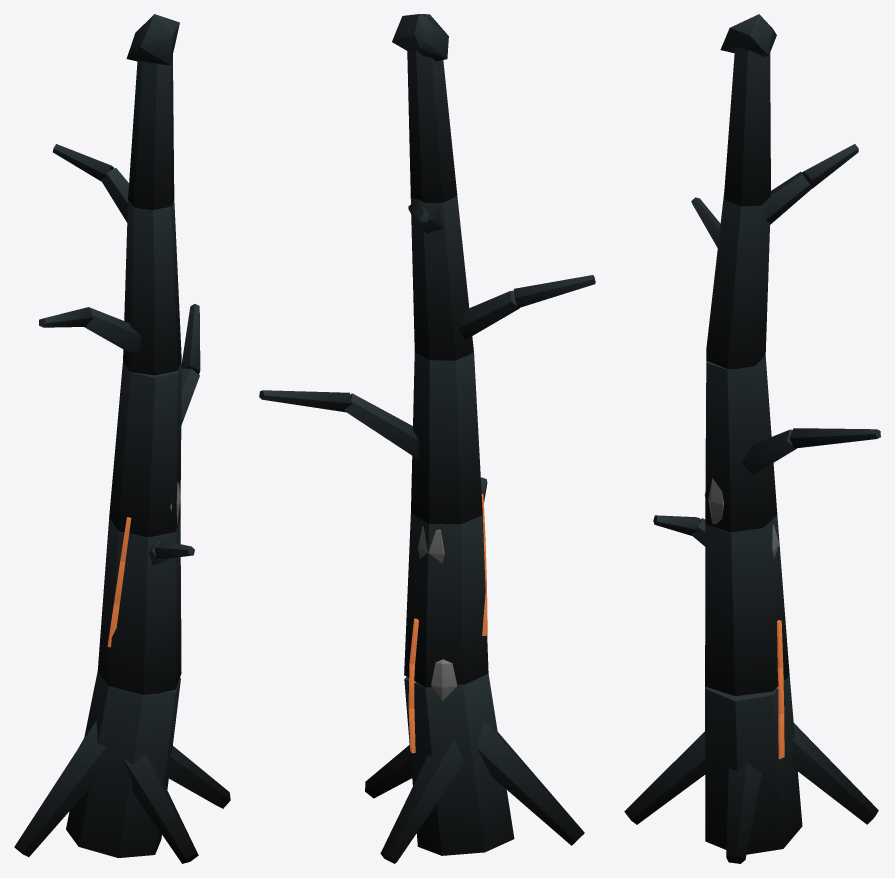
The model's file is charred_tree.glb.
3 views of the same model, side by side, from view 1: azimuth 30°, elevation 25°; view 2: azimuth 150°, elevation 25°; view 3: azimuth 270°, elevation 25° (orthographic). The views are drawn at different scales.
Visible parts, largest first — view 1: charred_tree; view 2: charred_tree; view 3: charred_tree.
Part boxes in pixels (x1,y1,x2,y2): charred_tree: (14,14,230,863); charred_tree: (259,14,595,863); charred_tree: (624,14,880,863).
Bounding box in the file's own units: 2.12 × 6.54 × 1.81.
2 materials, 2 textured.
